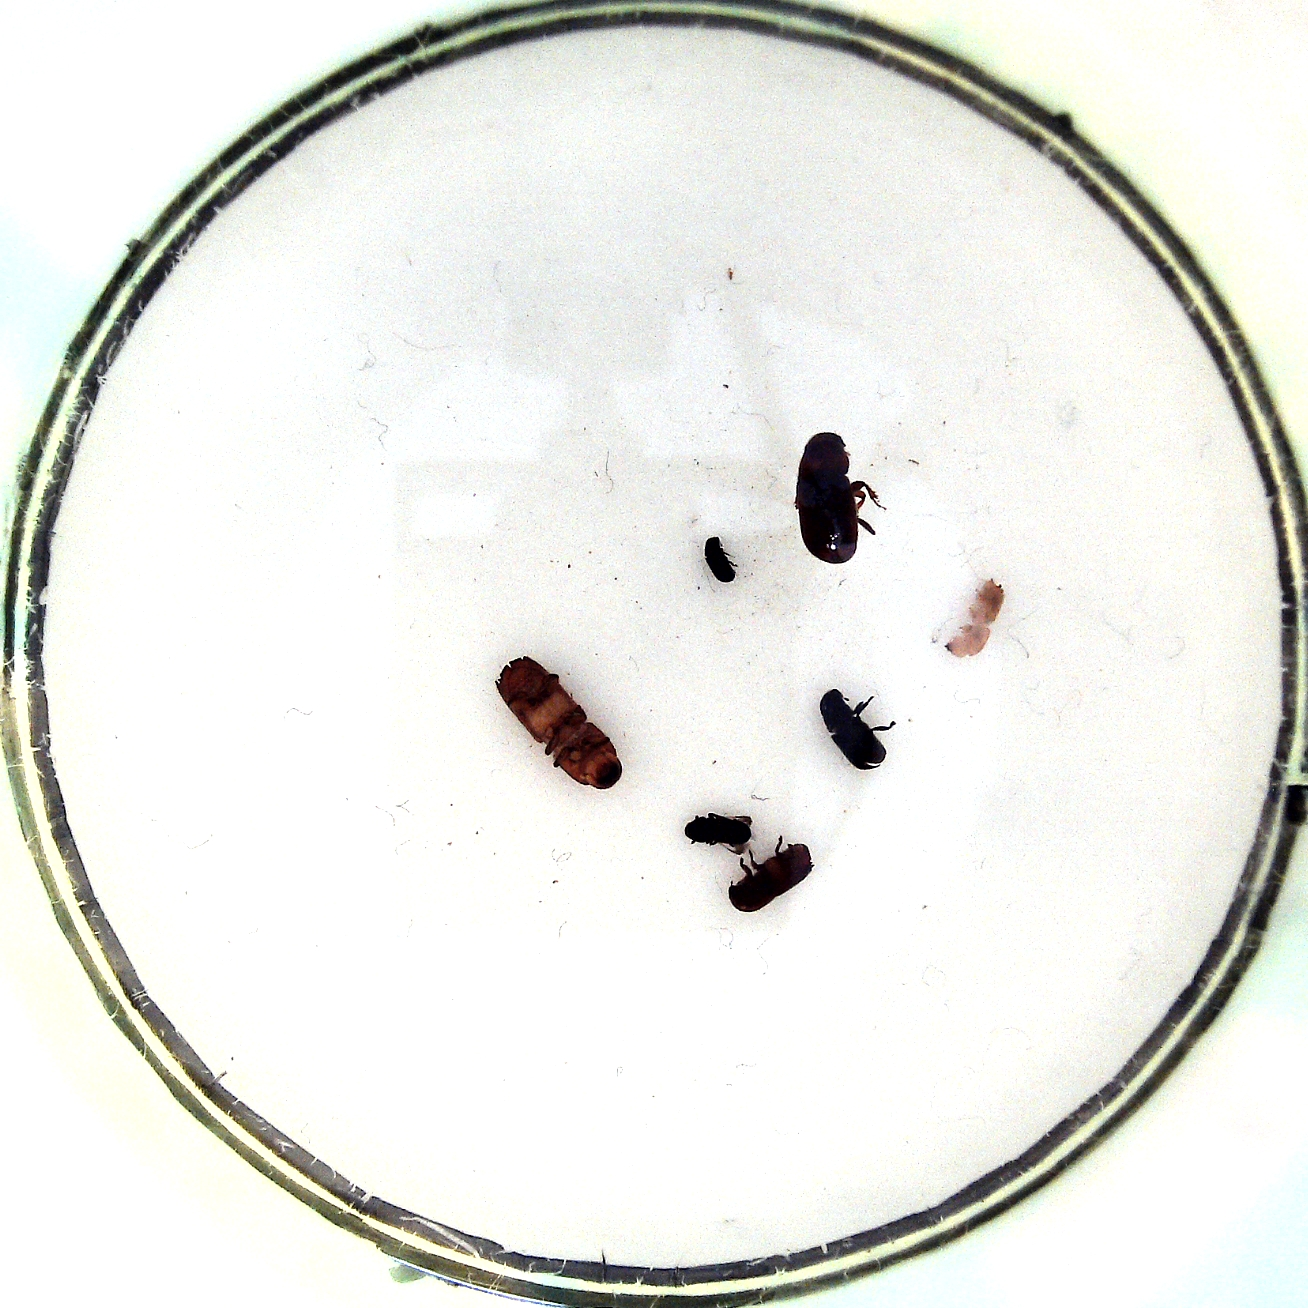Boerner: (488, 649, 625, 797)
Leconte: (791, 422, 884, 569)
Linnaeus: (722, 835, 817, 915)
acuminatus: (941, 573, 1007, 664)
armandi: (817, 685, 900, 774)
coleoptera: (678, 807, 759, 861), (700, 531, 750, 591)
